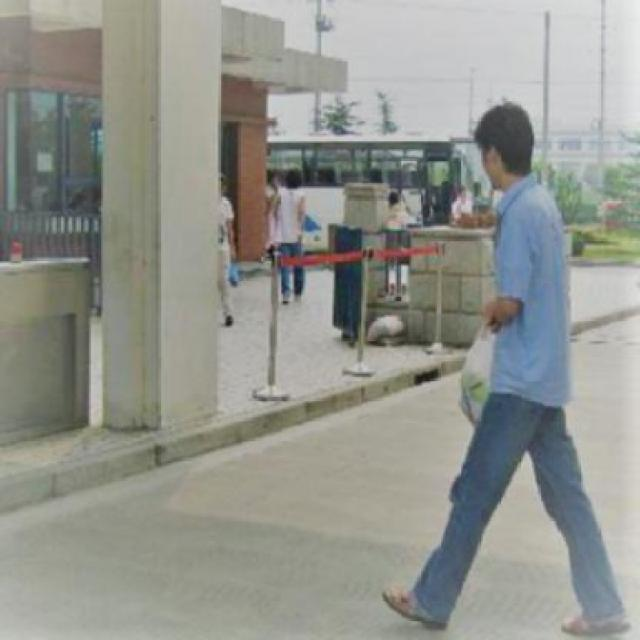Person: (383, 100, 639, 638), (270, 162, 310, 304)
